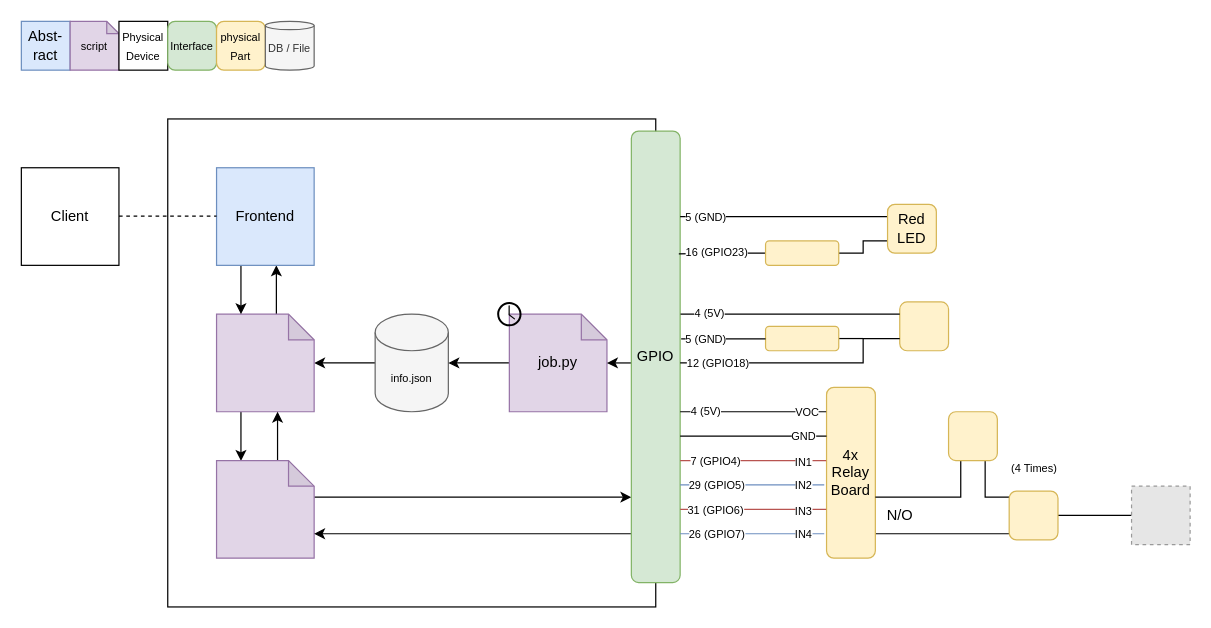
Some shapes in this 1211 by 628 pixel diagram are drawn without their labels. Grey dashed boxes stand in for pictures. The shapes that lost their labels are listed below. From the top down, each one's centre as x and y in pixels, then its label:
point 801,252: 200 Ω
point 801,338: 1k Ω
point 924,326: Button
point 264,362: api.php
point 972,436: 9v battery
point 264,508: hardware- Adapter.py
point 1033,515: conn-ector
